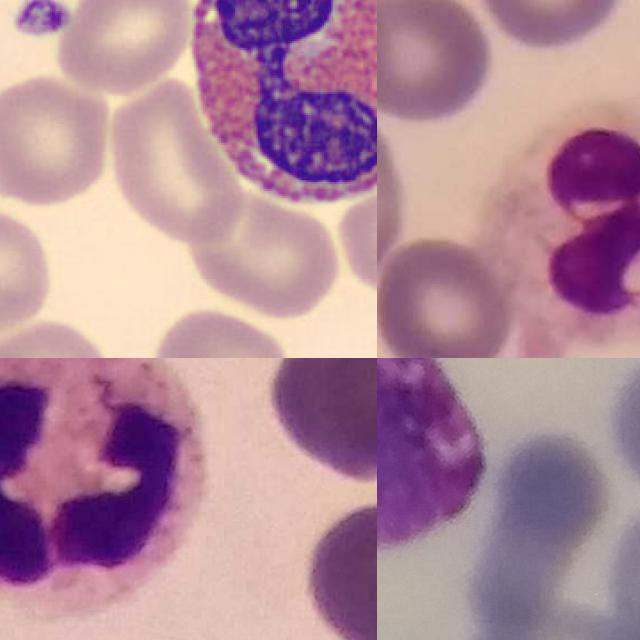Basophil: (377, 358, 489, 554)
Eosinophil: (176, 0, 377, 219)
Neutrophil: (0, 358, 209, 614), (481, 96, 640, 347)
Platelets: (7, 0, 74, 40)
RBC: (106, 71, 248, 247), (182, 193, 344, 320), (0, 72, 117, 206), (51, 0, 199, 95), (142, 303, 299, 358), (0, 201, 57, 342), (334, 153, 377, 300), (0, 312, 121, 358)
